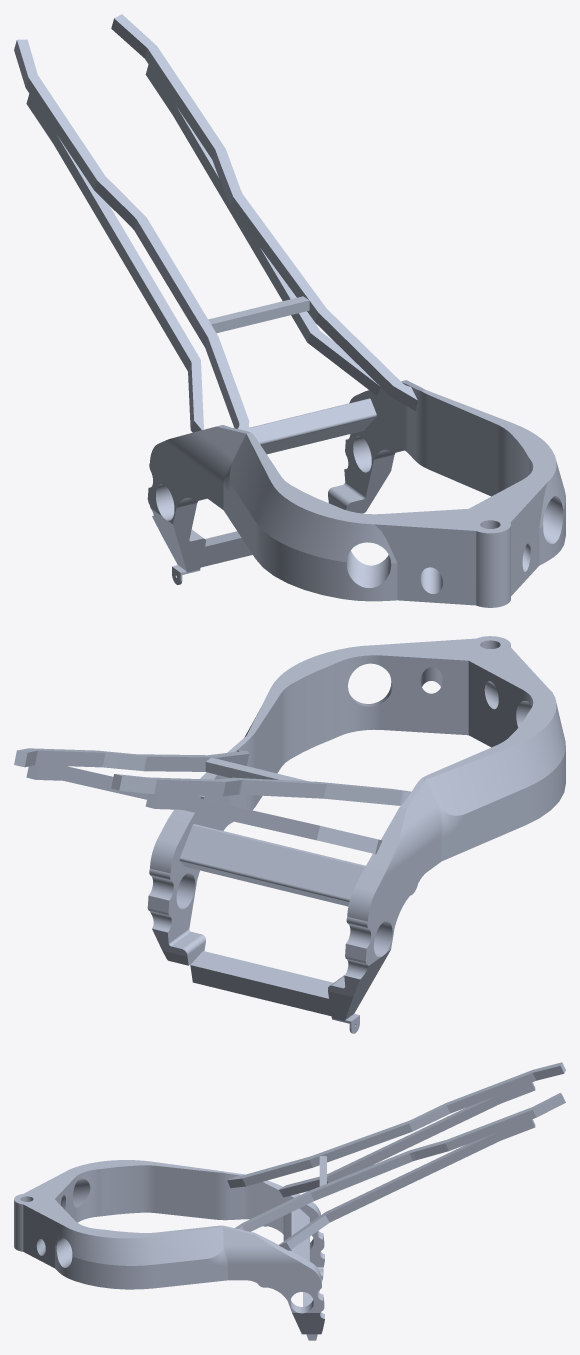
Rendered from Akiruhanui_ReVOLT_EV_Kawasaki_Frame_INCOMPLETE.obj.
3 renders of one model, top to bottom at view 1: azimuth 30°, elevation 25°; view 2: azimuth 150°, elevation 25°; view 3: azimuth 270°, elevation 25°, orthographic. The views are drawn at different scales.
Visible parts, largest first — view 1: Cut-Extrude11; view 2: Cut-Extrude11; view 3: Cut-Extrude11.
Boxes of the visible parts, box(x1,y1,x2,y2) form: Cut-Extrude11: box(14, 14, 565, 607); Cut-Extrude11: box(14, 636, 565, 1033); Cut-Extrude11: box(14, 1062, 565, 1340).
Size of the model in its own units: 545 by 736 by 1478.
